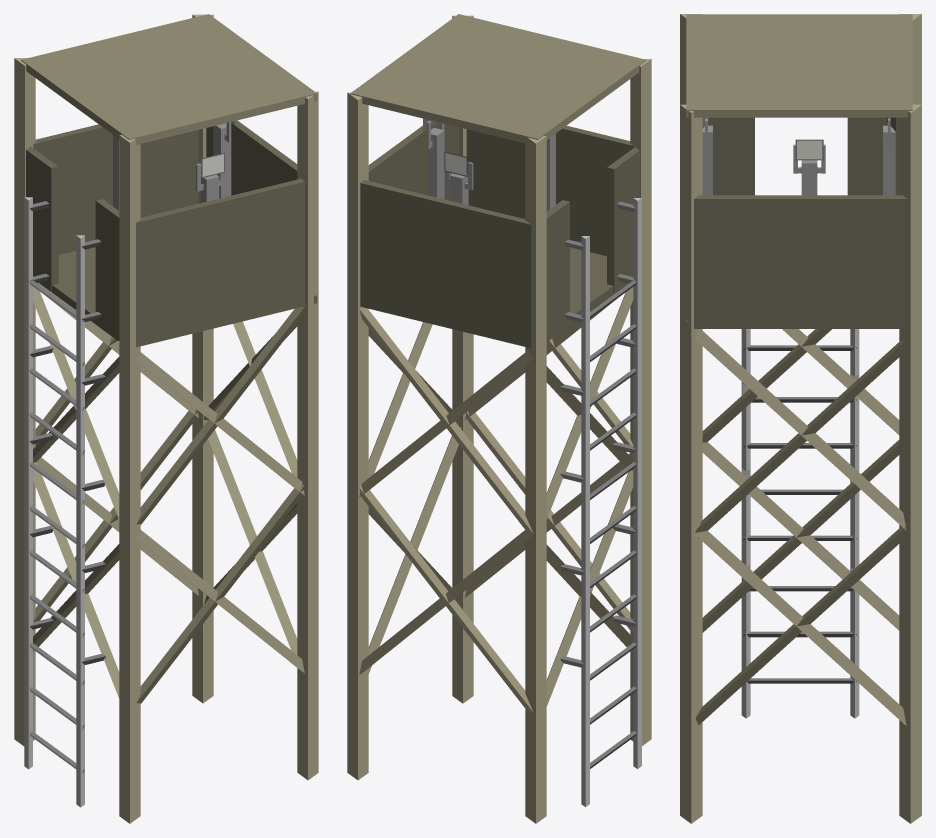
Rendered from tower.fbx.
3 views of the same model, side by side, from view 1: azimuth 30°, elevation 25°; view 2: azimuth 150°, elevation 25°; view 3: azimuth 270°, elevation 25° (orthographic). The views are drawn at different scales.
Parts seen in each view (by area): view 1: Cylinder_21, Cube_5, Cube_7; view 2: Cylinder_21, Cube_5, Cube_4, Cube_7; view 3: Cylinder_21, Cube_4, Cube_5, Cube_7, Cube_8_3.
Part boxes in pixels (<box>): Cylinder_21: <box>14,14,318,823</box>; Cube_5: <box>213,122,231,198</box>; Cube_7: <box>196,163,224,202</box>; Cylinder_21: <box>347,14,651,823</box>; Cube_5: <box>426,120,444,199</box>; Cube_4: <box>445,162,473,205</box>; Cube_7: <box>546,133,555,211</box>; Cylinder_21: <box>680,14,921,823</box>; Cube_4: <box>883,117,895,195</box>; Cube_5: <box>793,144,825,195</box>; Cube_7: <box>702,117,712,195</box>; Cube_8_3: <box>795,139,823,160</box>.
Size of the model in its own units: 228 by 694 by 213.
